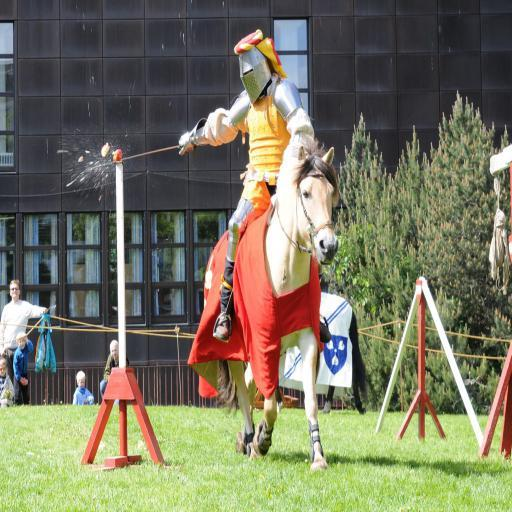Horse: (216, 137, 341, 474)
